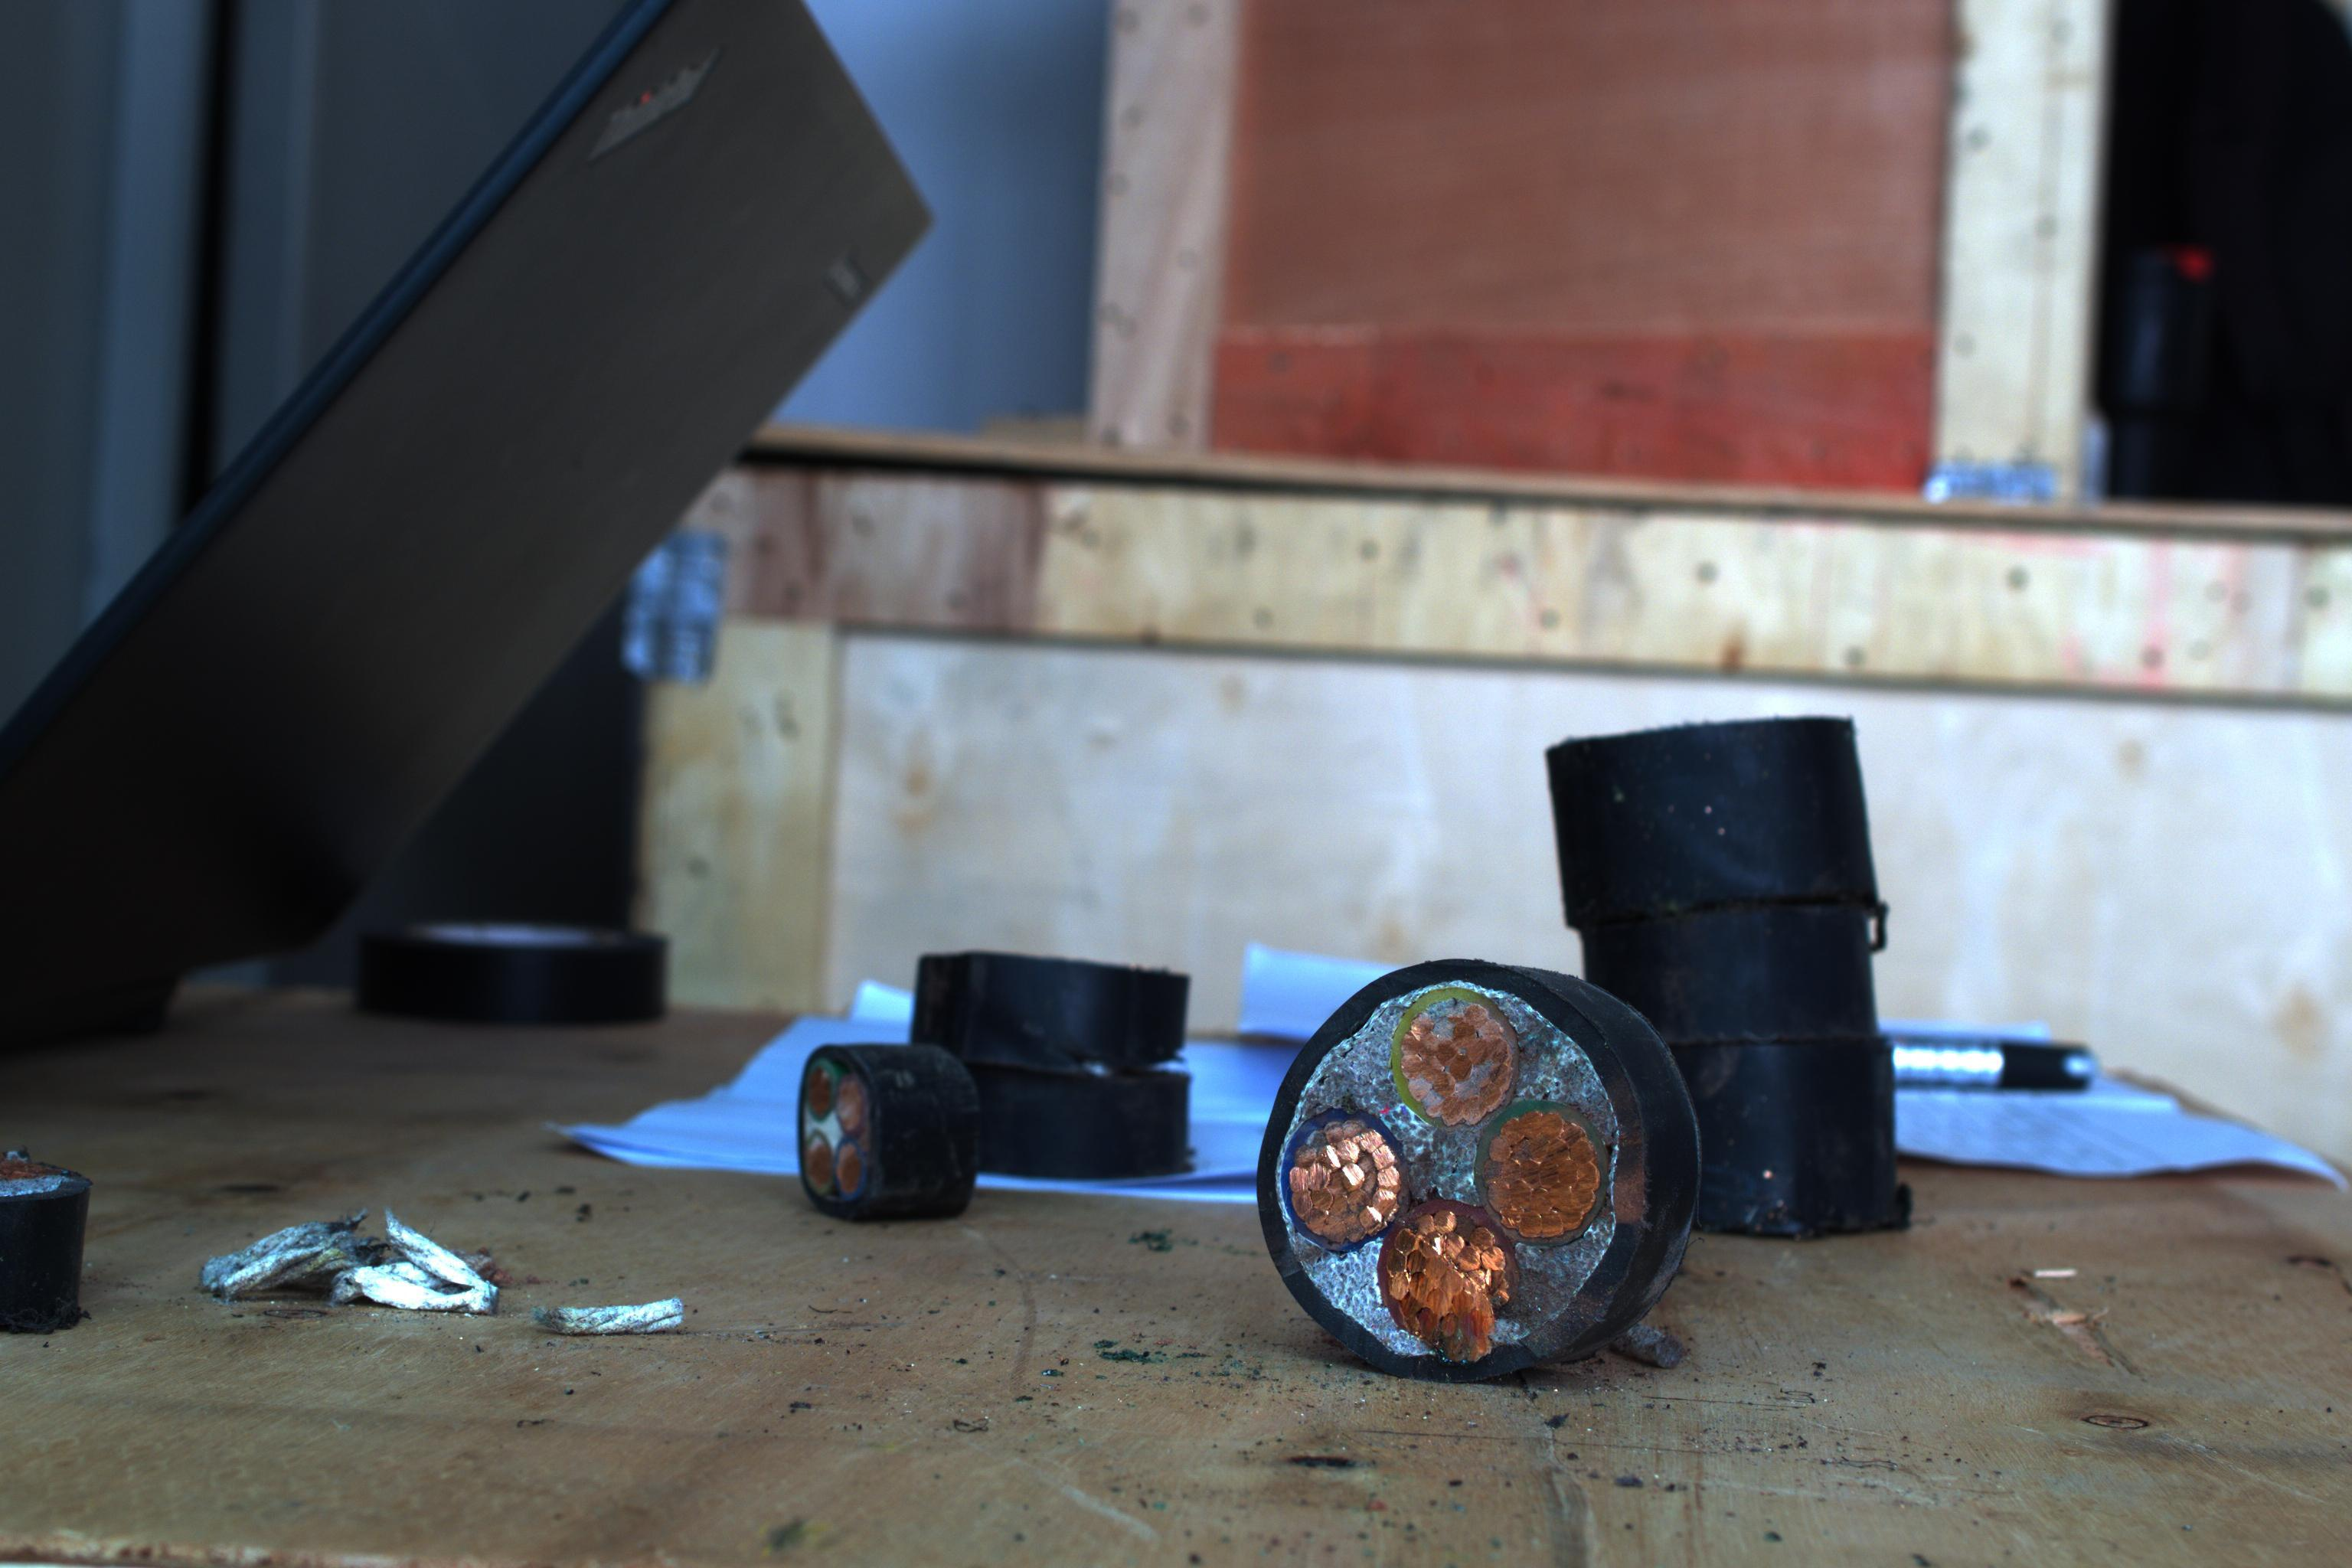YJV_0.6_1kV_4x120: (1256, 948, 1652, 1370)
